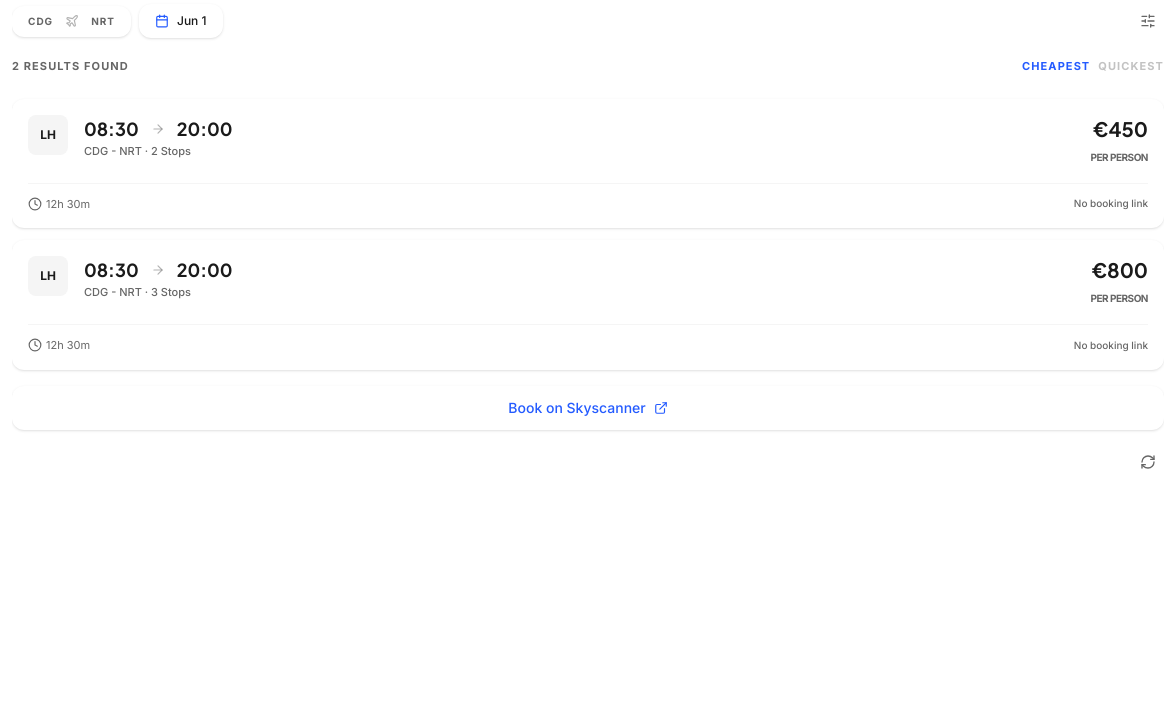
Test: FlightOptionsPanel › shows 'no matches' message when all results are filtered out
Click the button without text in the row of "Jun 1" at {"x": 1148, "y": 21}, box top-left (1132, 5), bottom-right (1164, 37)
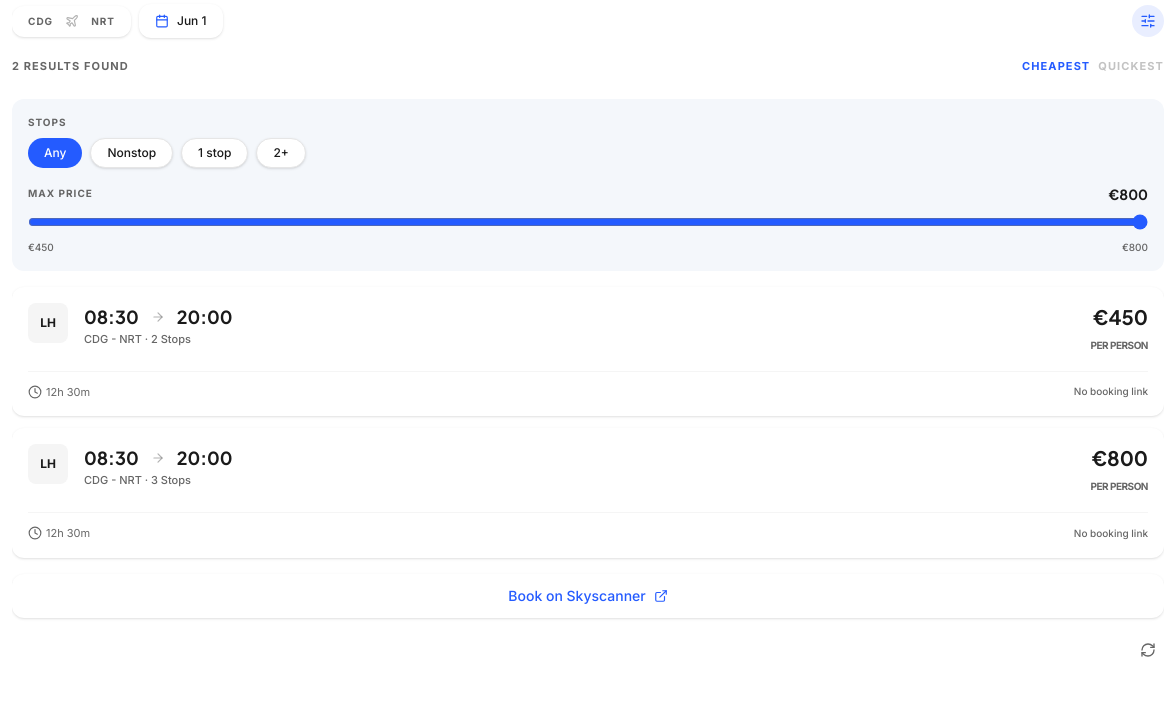
Click the button "Nonstop" at {"x": 132, "y": 152}, box top-left (90, 138), bottom-right (173, 168)
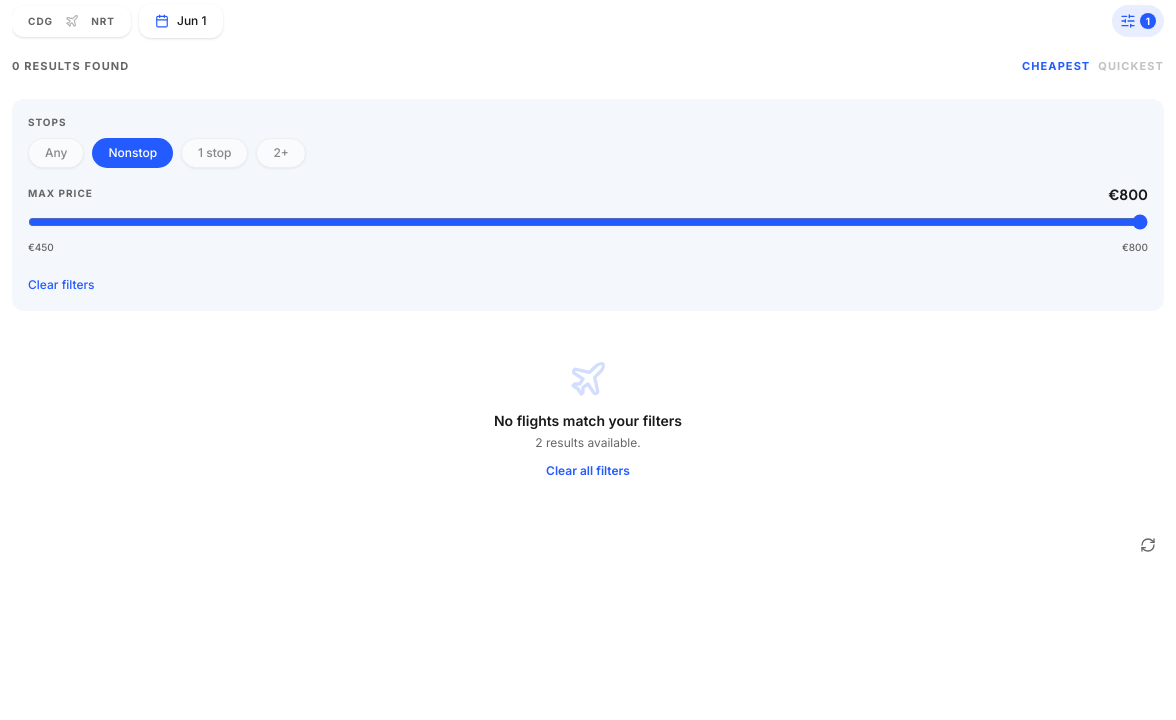
Expected: the text "No flights match your filters" is shown, top-left (494, 412), bottom-right (682, 428)
Expected: the button "Clear all filters" is shown, top-left (546, 462), bottom-right (630, 478)
